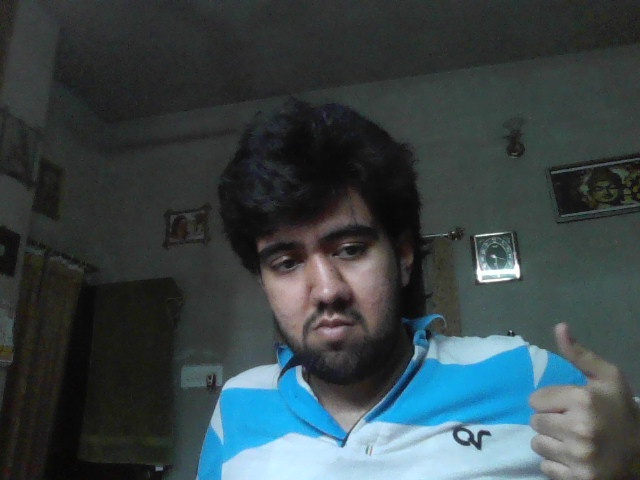Ok: (532, 322, 640, 480)
